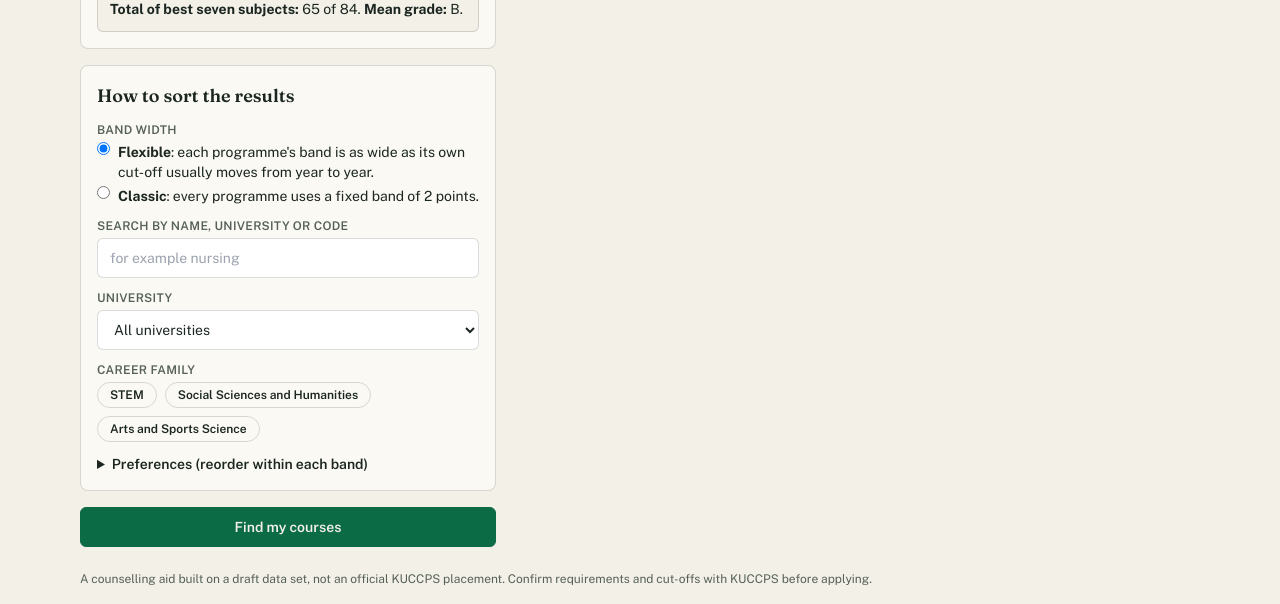
finding courses › sends the grades and shows the bands with their counts
(page scrolled)
Click the button "Find my courses" at [288, 527], box x1=80 y1=507 x2=496 y2=547
(page scrolled)
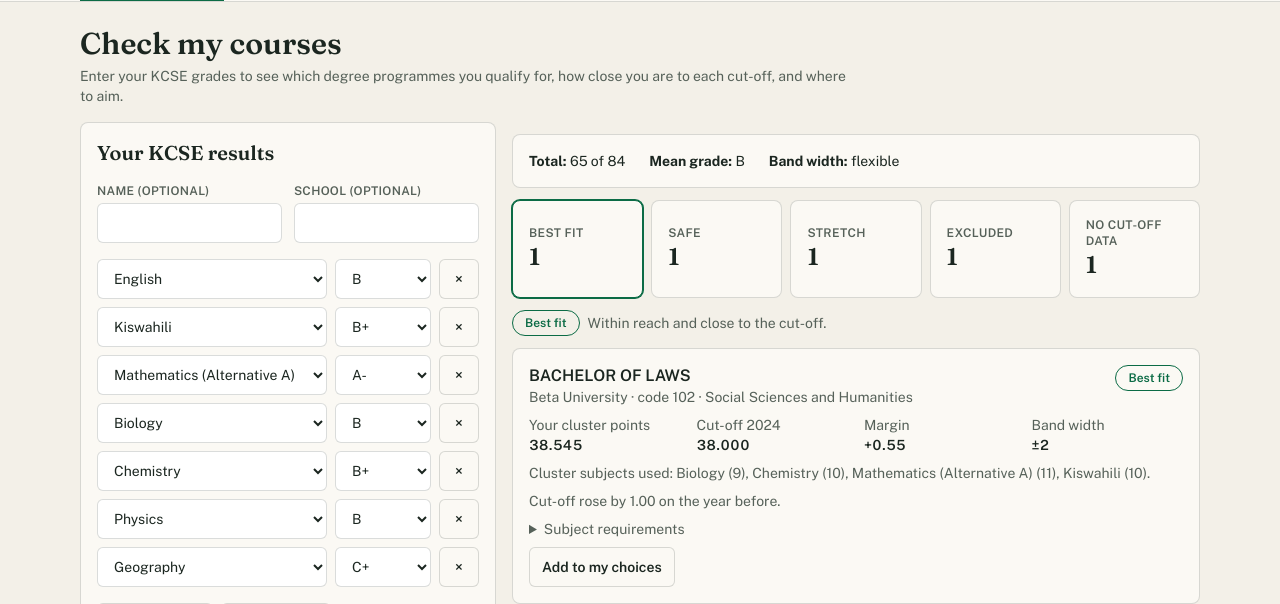
Now the tab "Best fit 1" is shown, box x1=512 y1=200 x2=643 y2=298
